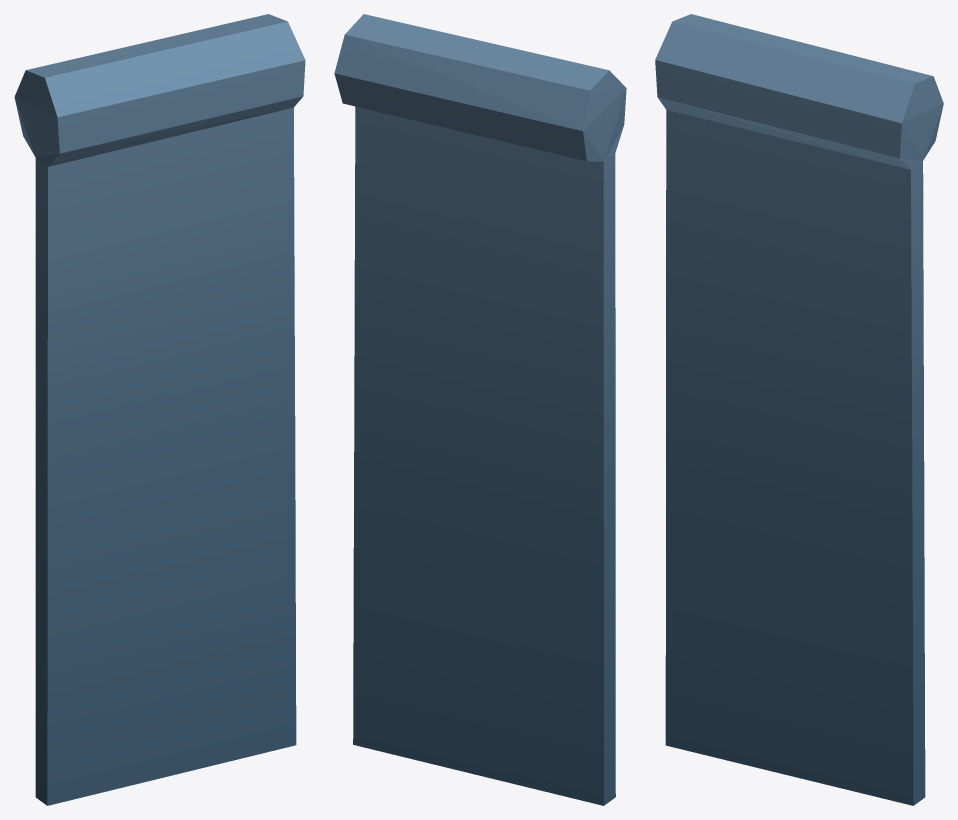
The model's file is MarketStall_Flag_Blank_Blue.fbx.
3 views of the same model, side by side, from view 1: azimuth 30°, elevation 25°; view 2: azimuth 150°, elevation 25°; view 3: azimuth 330°, elevation 25° (orthographic).
Parts seen in each view (by area): view 1: MarketStall_Flag_Blank_Blue; view 2: MarketStall_Flag_Blank_Blue; view 3: MarketStall_Flag_Blank_Blue.
Part boxes in pixels (left/top/right/bottom): MarketStall_Flag_Blank_Blue: left=14, top=14, right=305, bottom=805; MarketStall_Flag_Blank_Blue: left=334, top=14, right=626, bottom=805; MarketStall_Flag_Blank_Blue: left=655, top=14, right=943, bottom=805.
Bounding box in the file's own units: 0.3827 × 1.06 × 0.1149.
1 material, 1 textured.
